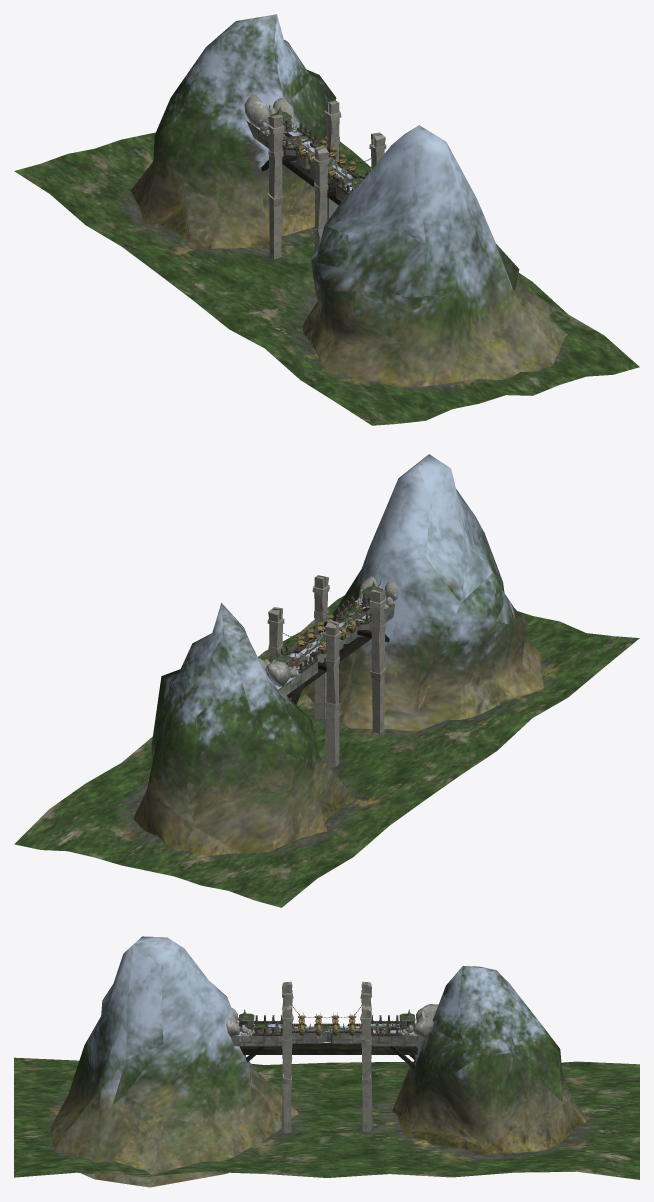
Rendered from aram.obj.
The picture shows the model from 3 angles, top to bottom: view 1: azimuth 30°, elevation 25°; view 2: azimuth 150°, elevation 25°; view 3: azimuth 270°, elevation 25°; orthographic projection. The views are drawn at different scales.
Parts seen in each view (by area): view 1: defaultMaterial.035, defaultMaterial.031, defaultMaterial.036, defaultMaterial.020, defaultMaterial.051, defaultMaterial.028, defaultMaterial.047; view 2: defaultMaterial.031, defaultMaterial.035, defaultMaterial.036, defaultMaterial.020, defaultMaterial.051, defaultMaterial.028; view 3: defaultMaterial.035, defaultMaterial.031, defaultMaterial.036, defaultMaterial.020, defaultMaterial.051, defaultMaterial.030, defaultMaterial.028, defaultMaterial.047, defaultMaterial.019, defaultMaterial.042.
Part boxes in pixels (<box>): defaultMaterial.035: <box>302,125,567,387</box>; defaultMaterial.031: <box>14,132,639,425</box>; defaultMaterial.036: <box>131,14,336,249</box>; defaultMaterial.020: <box>267,100,386,289</box>; defaultMaterial.051: <box>246,120,364,201</box>; defaultMaterial.028: <box>244,94,295,131</box>; defaultMaterial.047: <box>296,137,356,179</box>; defaultMaterial.031: <box>14,595,639,907</box>; defaultMaterial.035: <box>296,454,543,731</box>; defaultMaterial.036: <box>133,603,355,855</box>; defaultMaterial.020: <box>267,575,386,767</box>; defaultMaterial.051: <box>275,604,395,695</box>; defaultMaterial.028: <box>258,576,398,686</box>; defaultMaterial.035: <box>50,936,298,1187</box>; defaultMaterial.031: <box>14,1057,639,1179</box>; defaultMaterial.036: <box>392,966,586,1154</box>; defaultMaterial.020: <box>281,981,372,1133</box>; defaultMaterial.051: <box>230,1022,423,1046</box>; defaultMaterial.030: <box>239,1043,417,1054</box>; defaultMaterial.028: <box>225,1004,438,1037</box>; defaultMaterial.047: <box>298,1012,356,1035</box>; defaultMaterial.019: <box>239,1009,414,1031</box>; defaultMaterial.042: <box>254,1015,399,1035</box>.
Size of the model in its own units: 0.8819 by 0.6733 by 2.
